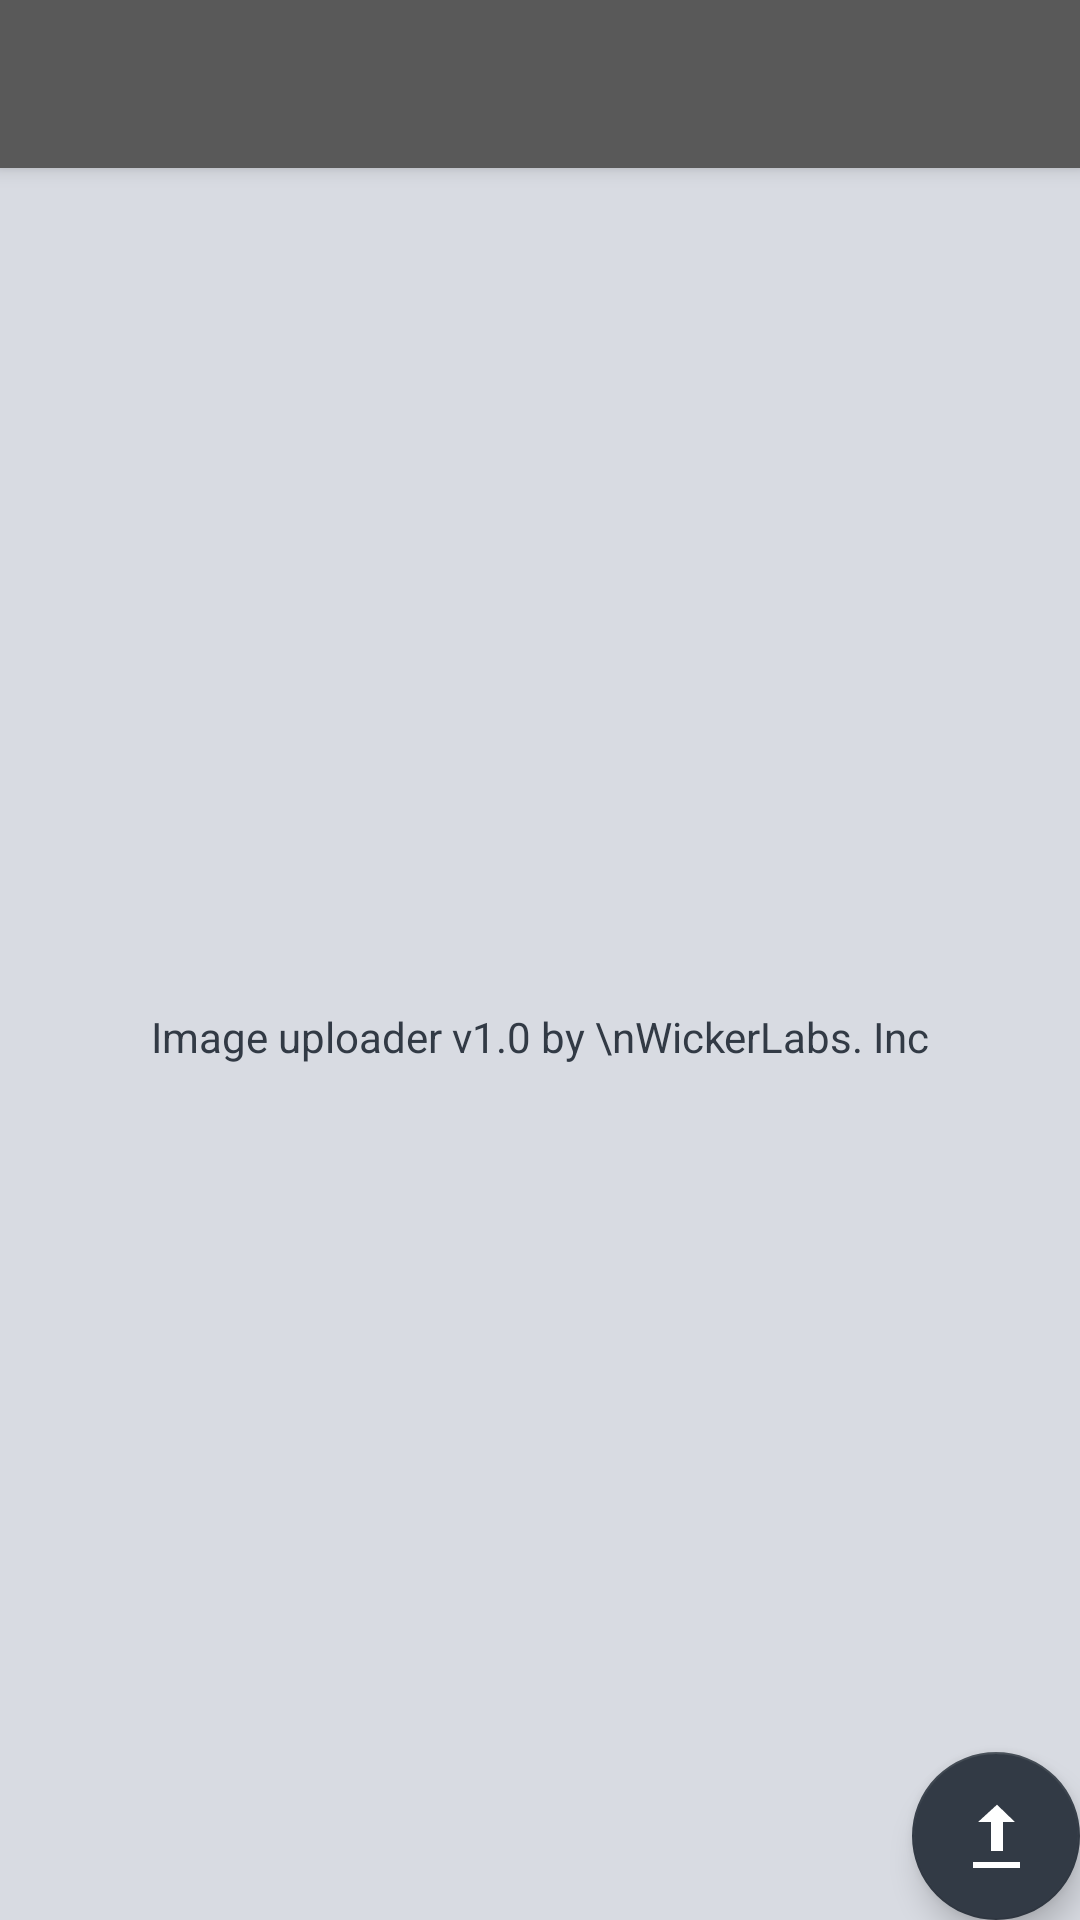

Named icons in this screenshot (1080 × 1920) and their centers, point (x, y):
upload done: point (996, 1836)
